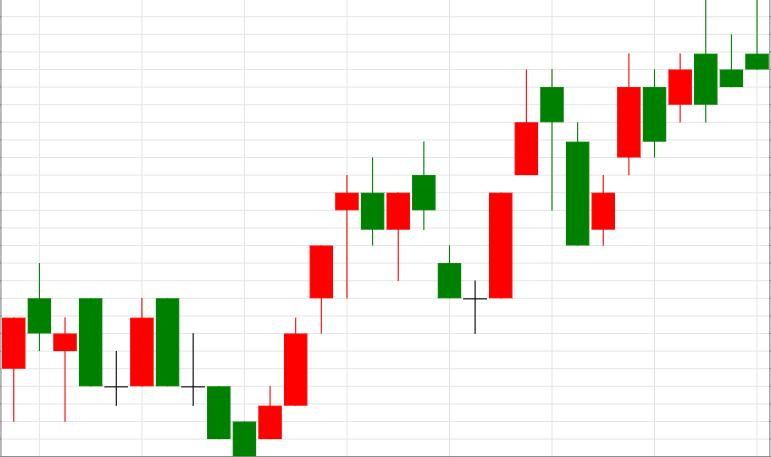morning_star_rise: (336, 142, 512, 333)
three_white_soldiers_rise: (157, 245, 333, 456)
